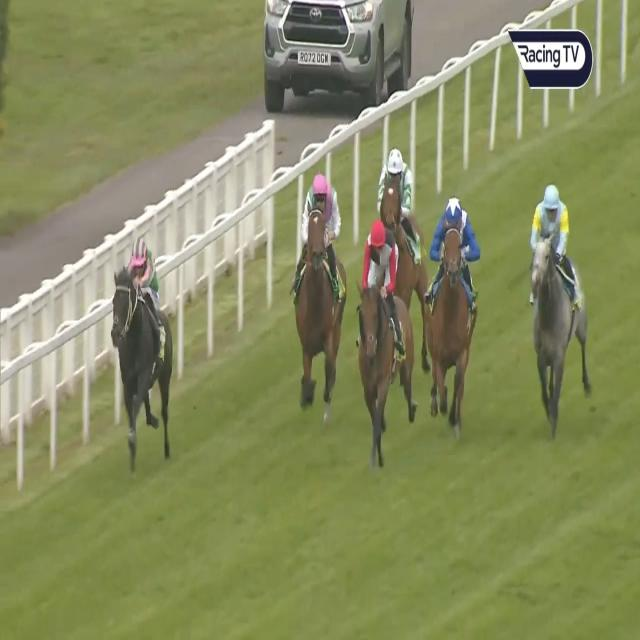horses-racing: (532, 185, 595, 437), (109, 241, 178, 454), (358, 219, 418, 449), (292, 177, 353, 402), (429, 192, 480, 412), (372, 145, 433, 299)
